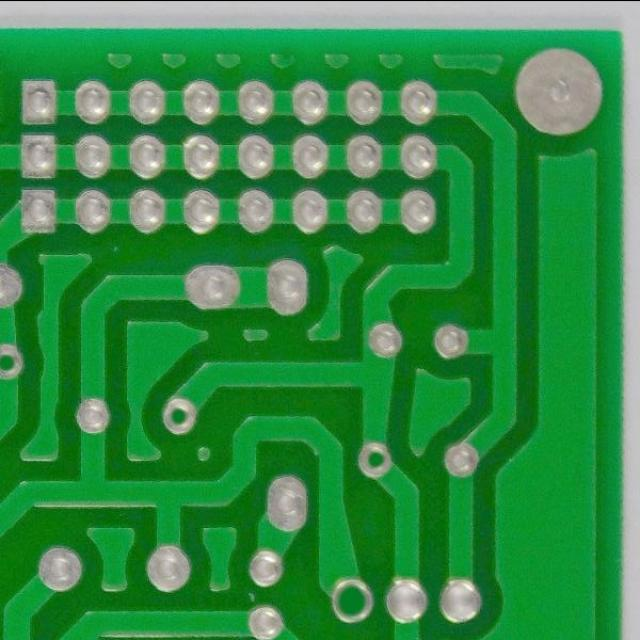Missing_Hole: (324, 574, 382, 628), (154, 392, 204, 439), (352, 438, 400, 484), (0, 339, 30, 385)
